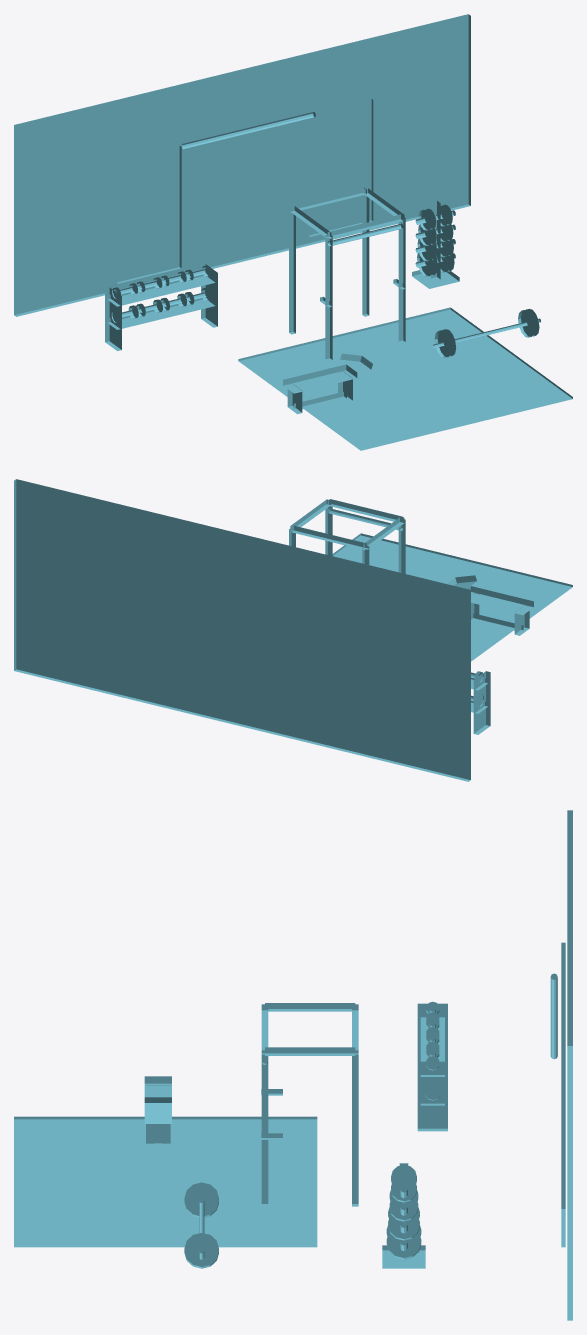
File: gym.glb
The picture shows the model from 3 angles, top to bottom: view 1: azimuth 30°, elevation 25°; view 2: azimuth 150°, elevation 25°; view 3: azimuth 270°, elevation 25°; orthographic projection. The views are drawn at different scales.
Parts seen in each view (by area): view 1: BackWall, FloorMat, PowerRack, DumbbellRack, PlateTree, Bench, Barbell; view 2: BackWall, FloorMat, PowerRack, Bench, DumbbellRack; view 3: FloorMat, BackWall, PowerRack, DumbbellRack, PlateTree, Barbell, Bench.
Part boxes in pixels (x1,y1,x2,y2): BackWall: [14, 14, 470, 316]; FloorMat: [238, 307, 572, 450]; PowerRack: [289, 187, 405, 361]; DumbbellRack: [105, 264, 217, 350]; PlateTree: [412, 200, 459, 288]; Bench: [283, 353, 372, 414]; Barbell: [433, 309, 540, 357]; BackWall: [14, 479, 470, 781]; FloorMat: [332, 533, 572, 661]; PowerRack: [289, 499, 405, 573]; Bench: [446, 575, 533, 635]; DumbbellRack: [471, 671, 490, 734]; FloorMat: [14, 1116, 317, 1247]; BackWall: [550, 810, 572, 1320]; PowerRack: [261, 1003, 358, 1206]; DumbbellRack: [417, 1001, 447, 1131]; PlateTree: [382, 1163, 425, 1268]; Barbell: [184, 1182, 218, 1268]; Bench: [144, 1076, 171, 1146].
Bounding box in the file's own units: 9 × 3.6 × 7.74.
